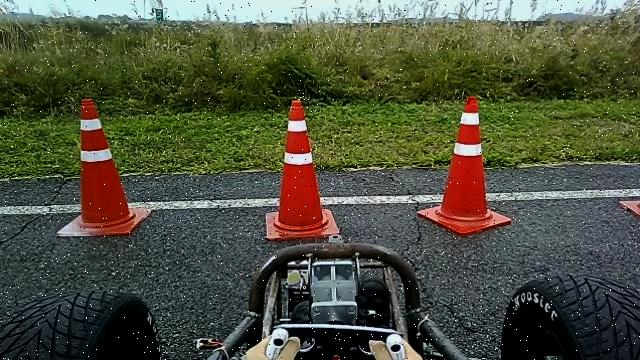red cone: (416, 95, 512, 236), (55, 98, 151, 238), (264, 99, 340, 240)
